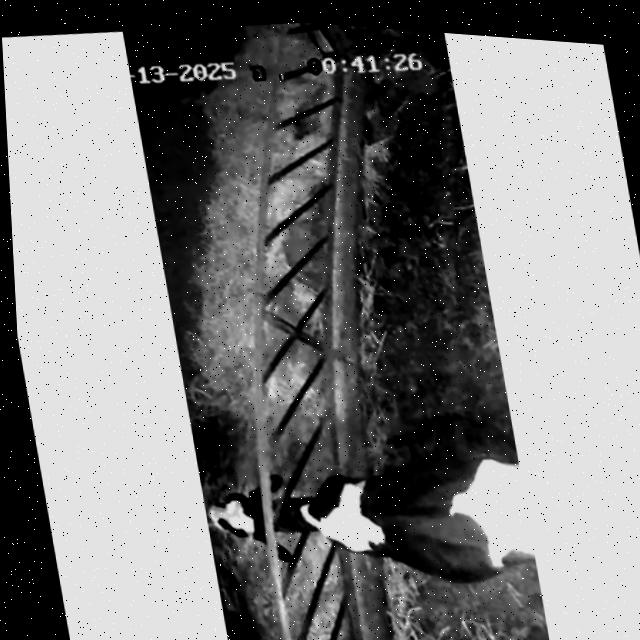eat: (189, 404, 418, 610)
